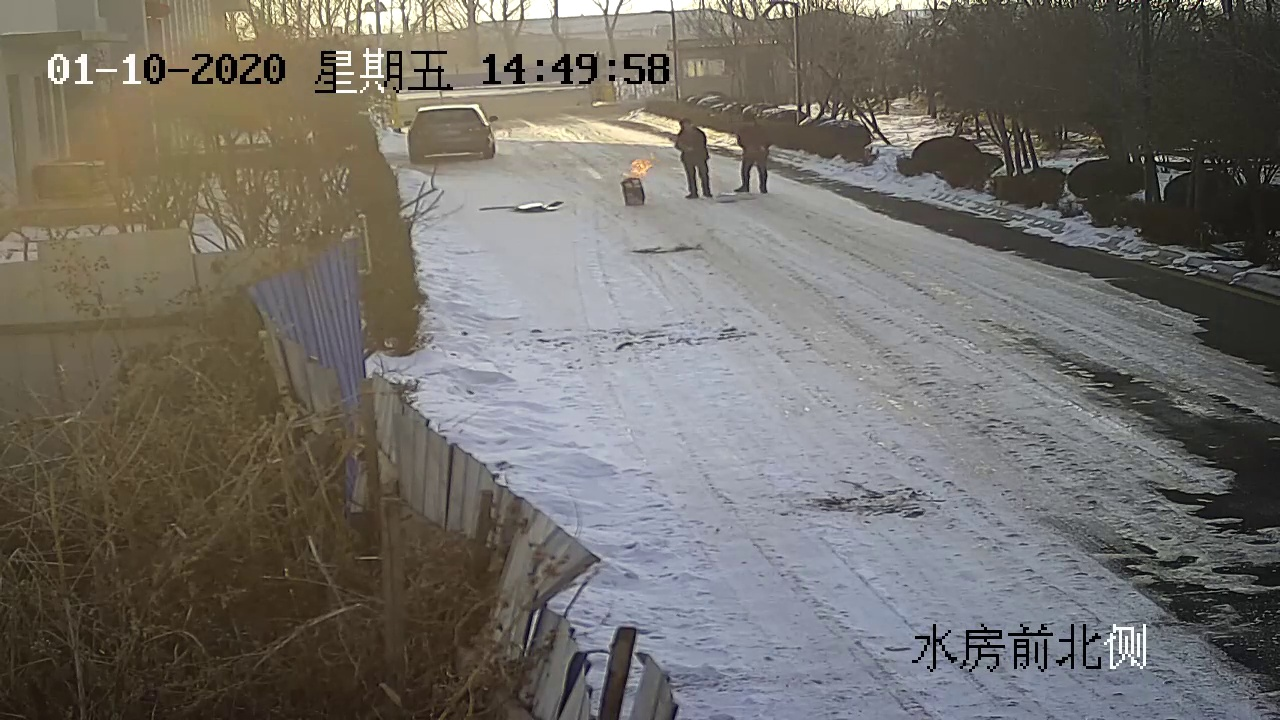fire: (624, 155, 648, 180)
